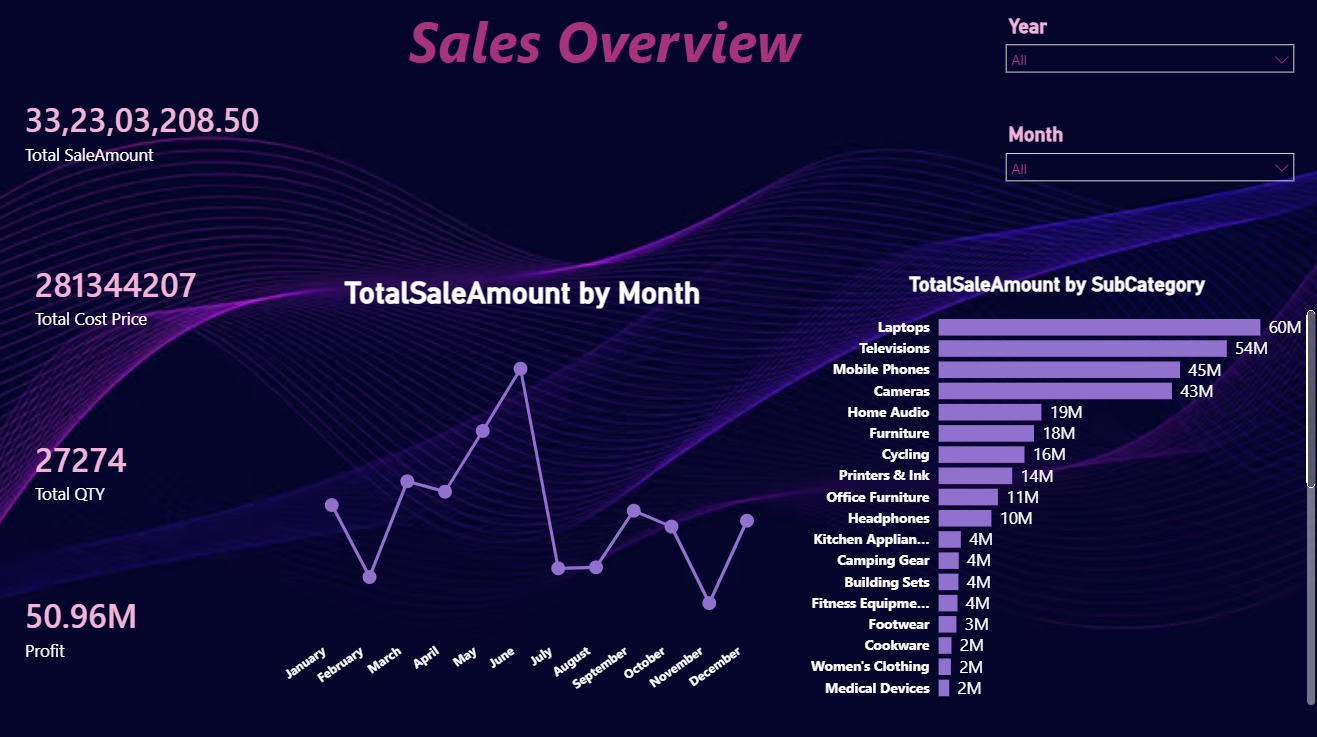

What the dashboard file says about the page in this screenshot:
{"tool":"powerbi","page":{"name":"Sales Overview","canvas":[1280,720],"ordinal":1},"visuals":[{"type":"cardVisual","fields":{"Data":["Measure Table.Total Sales"]},"box":[0,77.2,294.4,103.8],"z":0},{"type":"barChart","title":"TotalSaleAmount by SubCategory","fields":{"Category":["Dim_Product.SubCategory"],"Y":["Sum(Fact_Sales.TotalSaleAmount)"]},"box":[771.4,267.1,508.6,421.4],"z":1000},{"type":"lineChart","title":"TotalSaleAmount by Month","fields":{"Category":["Dim_Calender.Month"],"Y":["Sum(Fact_Sales.TotalSaleAmount)"]},"box":[272.7,267.8,472.9,421],"z":2000},{"type":"slicer","fields":{"Values":["Dim_Calender.Year"]},"box":[965.2,12.1,299.2,105],"z":3000},{"type":"cardVisual","fields":{"Data":["Measure Table.Total Cost Price"]},"box":[9.7,234,296.8,107.4],"z":4000},{"type":"slicer","fields":{"Values":["Dim_Calender.Month"]},"box":[965.2,117,299.2,103.8],"z":5000},{"type":"cardVisual","fields":{"Data":["Measure Table.Profit"]},"box":[0,544.1,293.2,127.9],"z":6000},{"type":"textbox","box":[351.1,0,474.1,85.7],"z":7000},{"type":"cardVisual","fields":{"Data":["Measure Table.Total QTY"]},"box":[9.7,386.1,292,141.2],"z":8000}]}

Visuals, with their boxes in screenshot pixels (x1, y1, x2, y2), scaled from the page's 1280x720 canvas onto the 1317x737 screenshot:
cardVisual - Measure Table.Total Sales: Rect(0, 79, 303, 185)
"TotalSaleAmount by SubCategory" barChart: Rect(794, 273, 1316, 705)
"TotalSaleAmount by Month" lineChart: Rect(281, 274, 767, 705)
slicer - Dim_Calender.Year: Rect(993, 12, 1301, 120)
cardVisual - Measure Table.Total Cost Price: Rect(10, 240, 315, 349)
slicer - Dim_Calender.Month: Rect(993, 120, 1301, 226)
cardVisual - Measure Table.Profit: Rect(0, 557, 302, 688)
textbox: Rect(361, 0, 849, 88)
cardVisual - Measure Table.Total QTY: Rect(10, 395, 310, 540)
